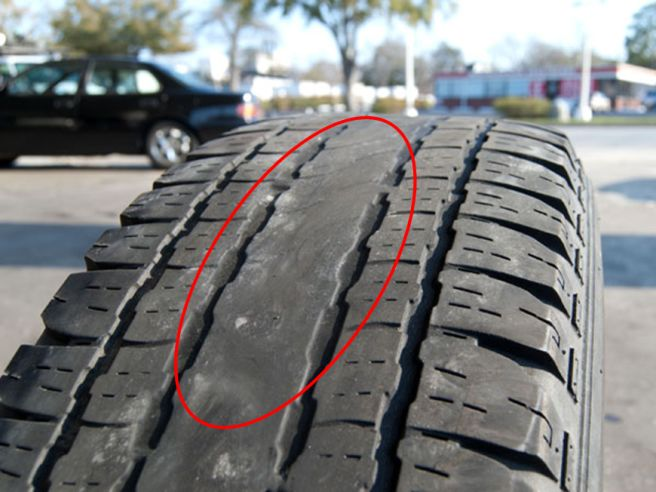bad_condition: (3, 111, 608, 490)
